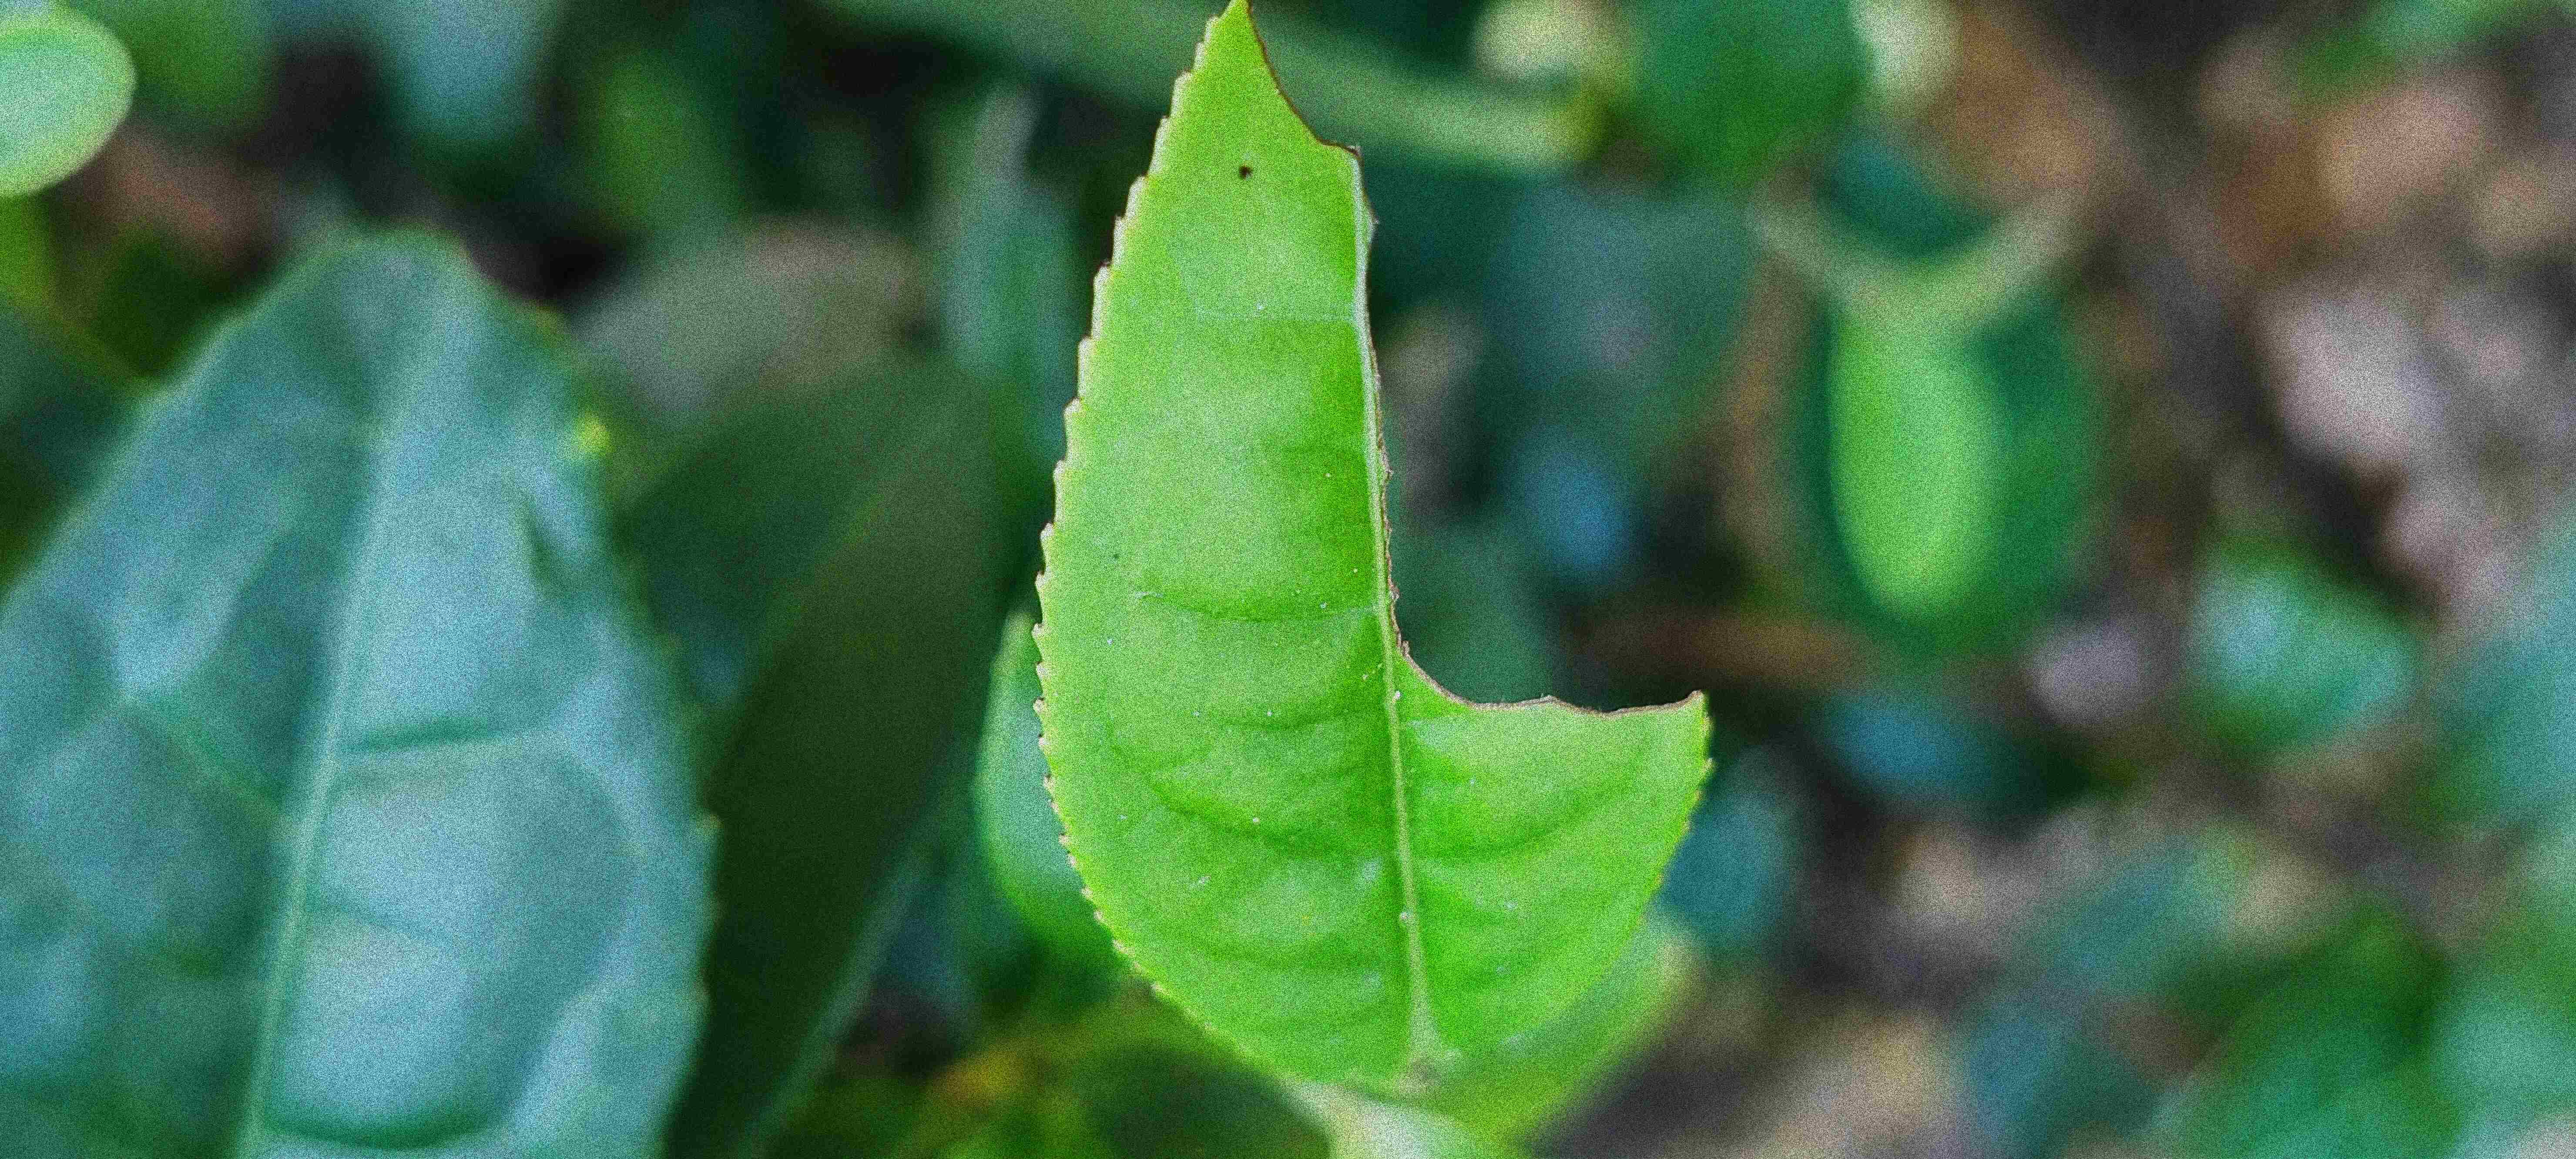chihuo_high: (1030, 5, 1717, 1098)
healthy: (0, 220, 729, 1156)
